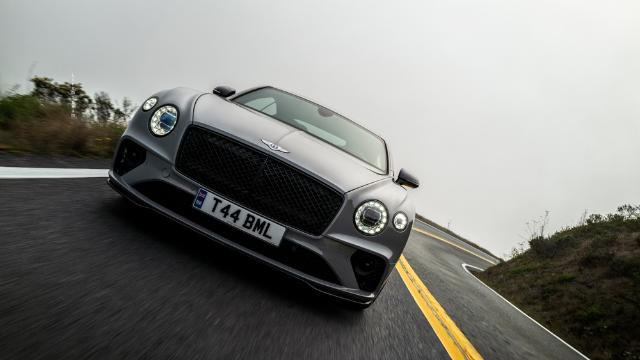bentley: (106, 84, 422, 310)
